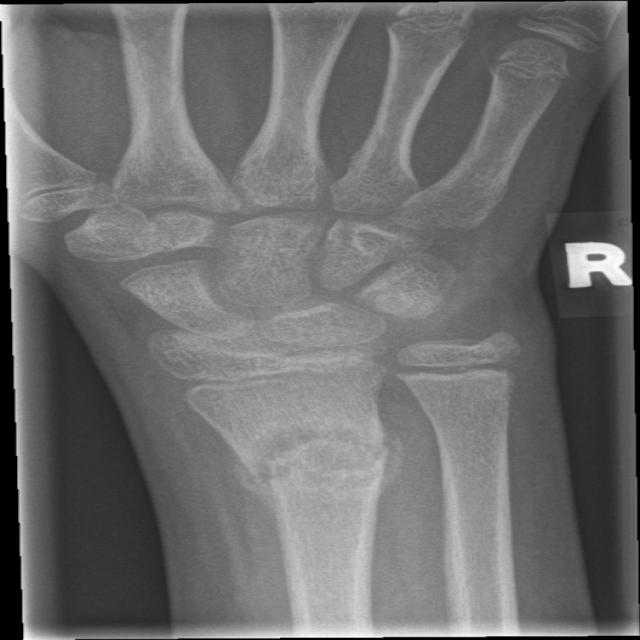radius fracture: (216, 428, 415, 522)
